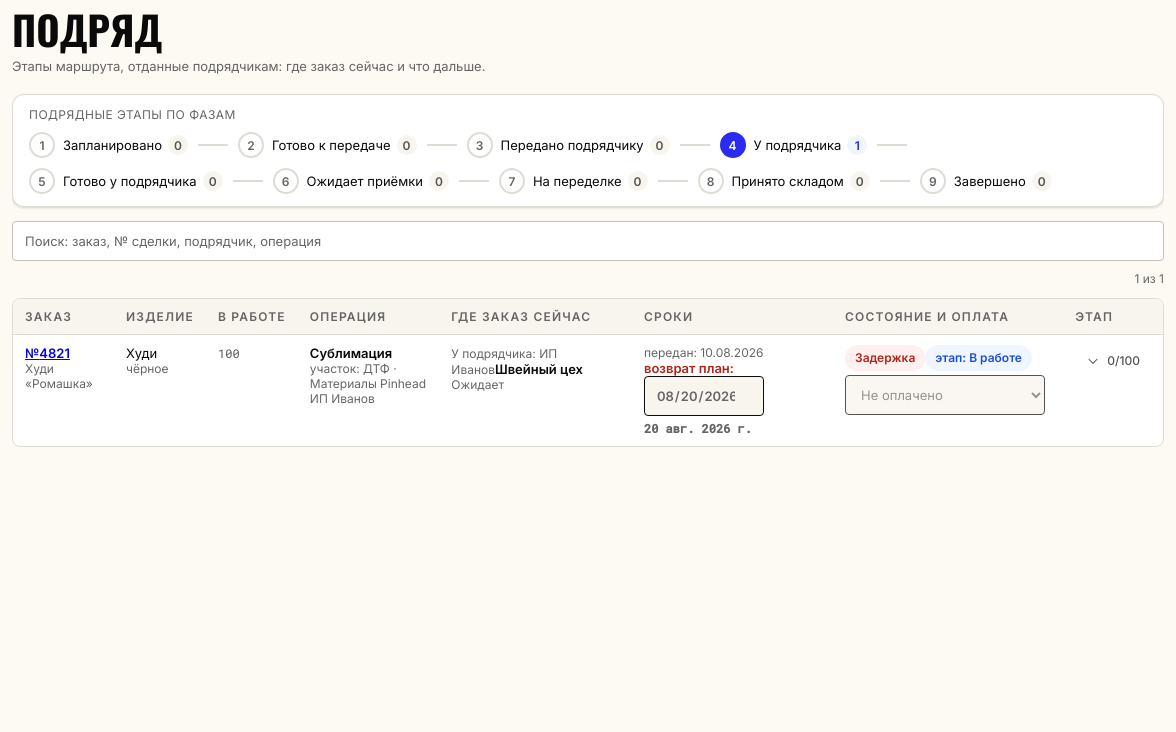
Подряд › без права «Ведение заказа» журнал только читается
What coordinates should you click on to do the following:
click the button "0/100"
I would click on:
 (1113, 361)
Its box is [1075,345,1151,377].
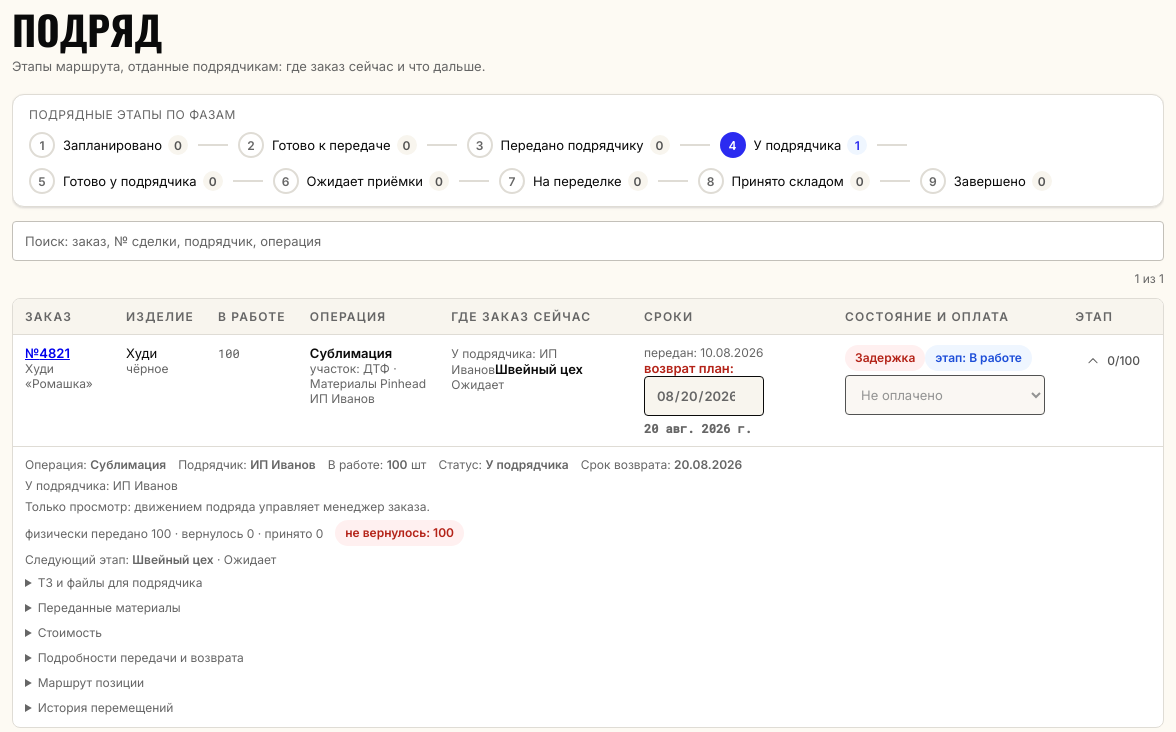
expect the text "физически передано 100 · вернулось 0 · принято 0" is shown: met, box [25,526,323,540]
